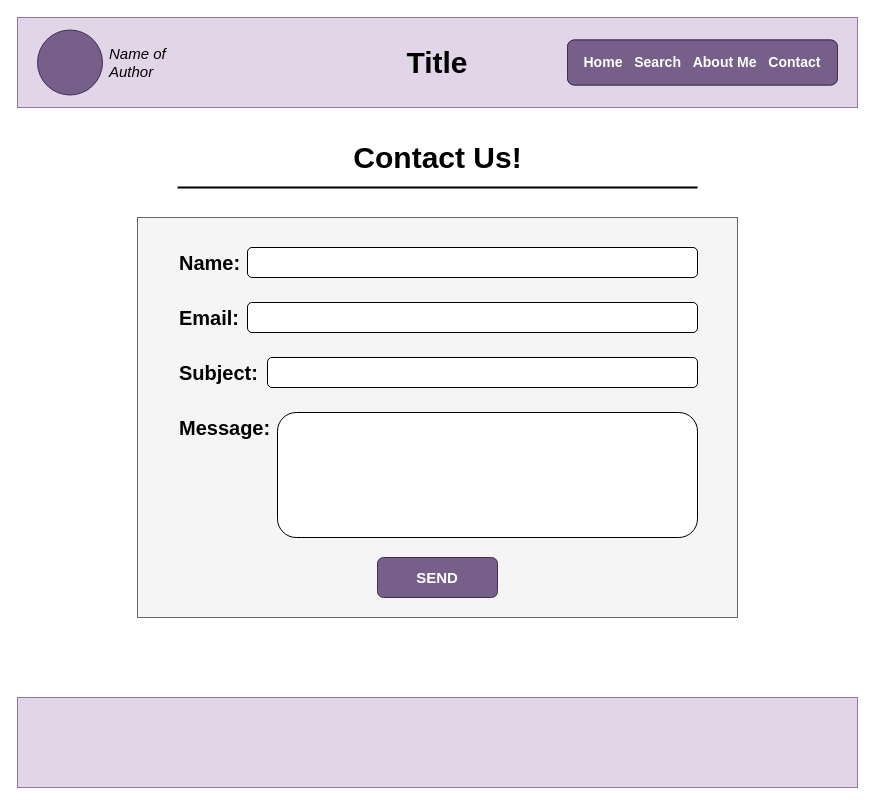
Some shapes in this 875 by 805 pixel diagram are drawn without their labels. The box of each missing label's shape, as (x1, y1, x2, y2) in pixels:
footer: (16, 696, 858, 788)
logo: (36, 29, 102, 95)
